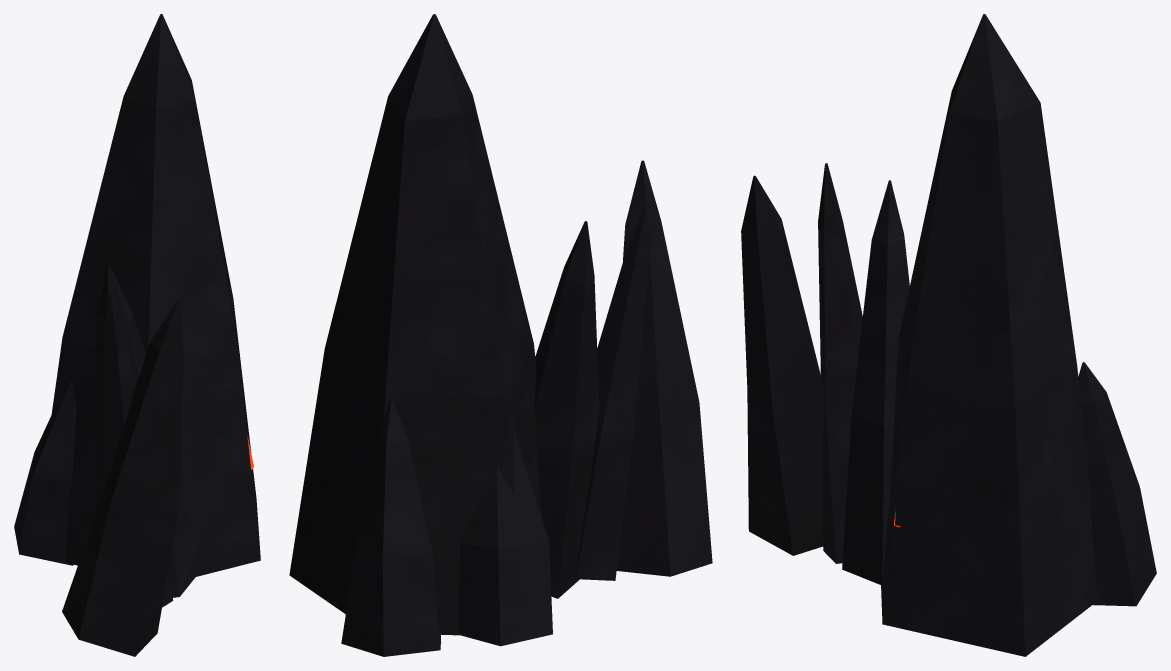
File: obsidian_spire_small.glb
3 views of the same model, side by side, from view 1: azimuth 30°, elevation 25°; view 2: azimuth 150°, elevation 25°; view 3: azimuth 270°, elevation 25° (orthographic). The views are drawn at different scales.
Parts seen in each view (by area): view 1: Spire; view 2: Spire; view 3: Spire.
Boxes of the visible parts, <box> form: Spire: <box>14,14,260,656</box>; Spire: <box>289,14,712,656</box>; Spire: <box>741,14,1156,656</box>.
Size of what is drawn, in the model's own units: 5.05 by 9.14 by 5.84.
2 materials, 1 textured.
